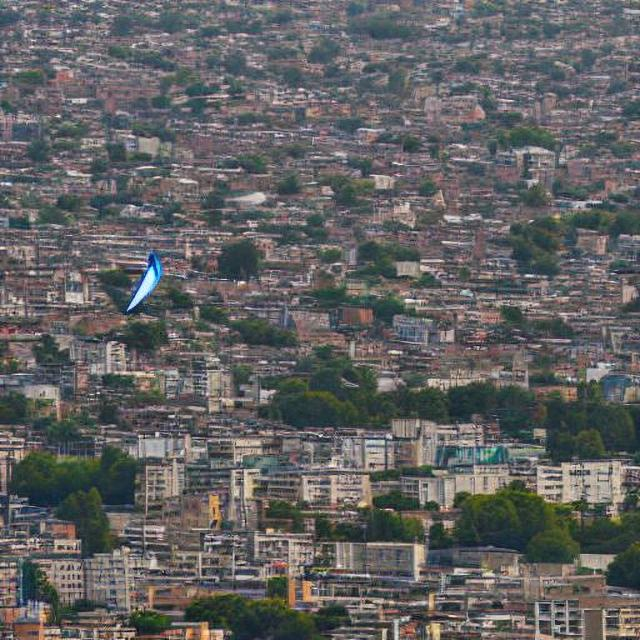floating object: (122, 250, 164, 312)
